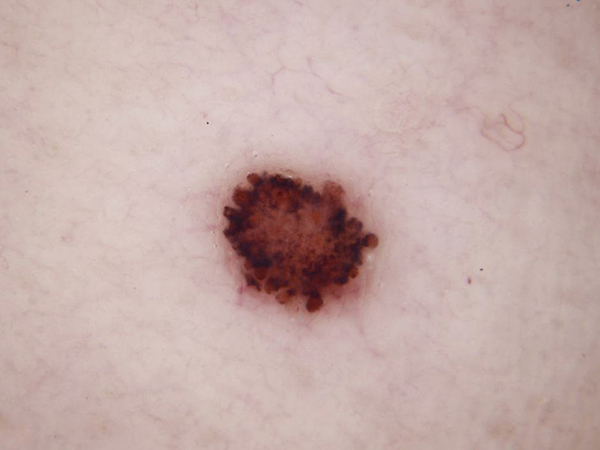Detected Lesion: (214, 165, 387, 319)
